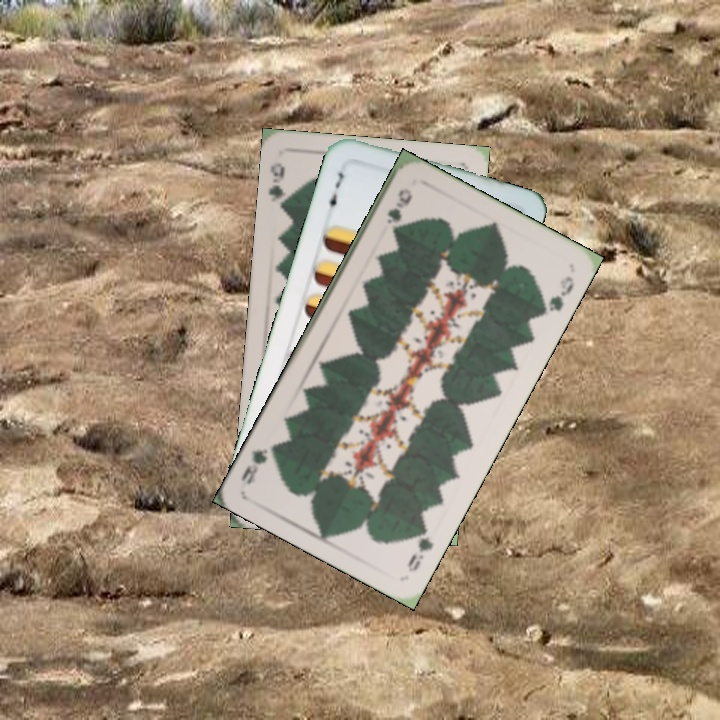E7: (323, 166, 347, 216)
G9: (403, 519, 436, 575), (264, 158, 291, 214), (383, 184, 415, 227)
